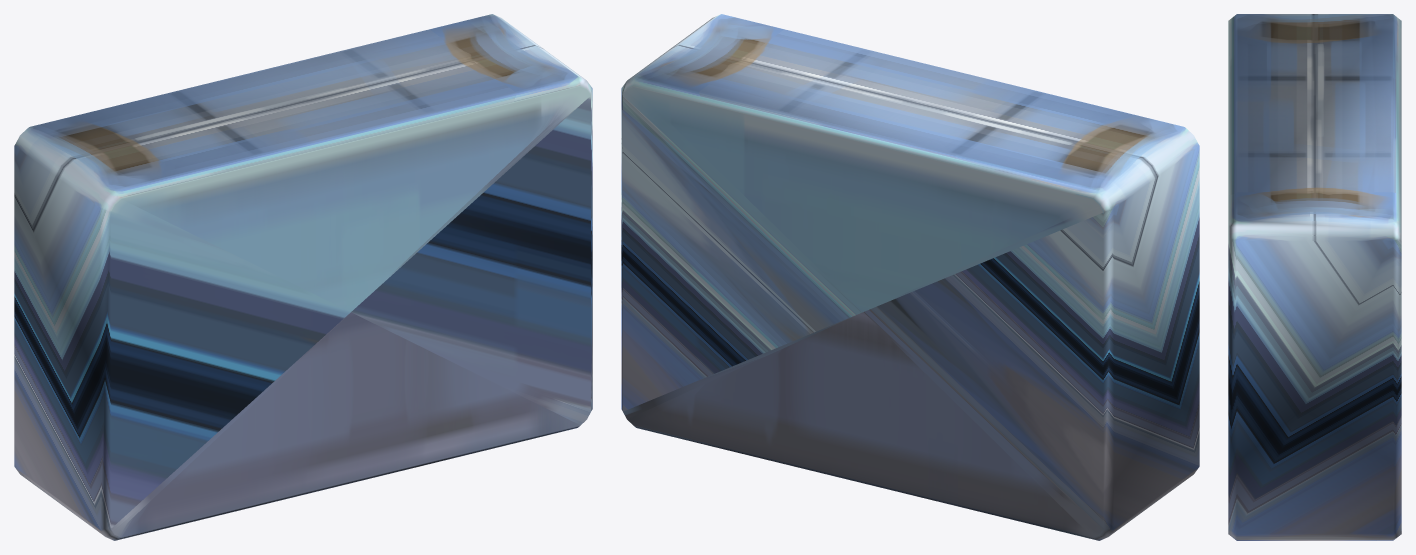
Rendered from Bomb_casing_highlight.fbx.
3 views of the same model, side by side, from view 1: azimuth 30°, elevation 25°; view 2: azimuth 150°, elevation 25°; view 3: azimuth 270°, elevation 25° (orthographic). The views are drawn at different scales.
Parts seen in each view (by area): view 1: Bomb_highlight; view 2: Bomb_highlight; view 3: Bomb_highlight.
Part boxes in pixels (x1,y1,x2,y2): Bomb_highlight: [14, 14, 592, 540]; Bomb_highlight: [621, 14, 1199, 540]; Bomb_highlight: [1228, 14, 1401, 540].
Bounding box in the file's own units: 701 × 477 × 234.
